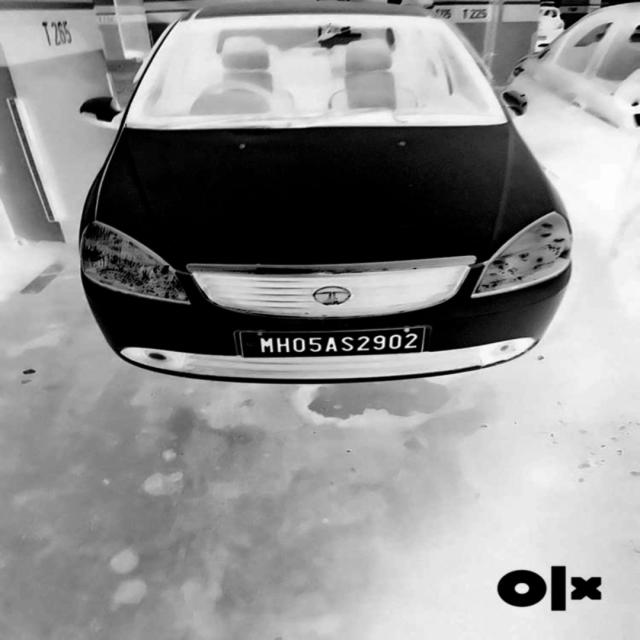0: (293, 335, 307, 356), (387, 334, 403, 351)
2: (404, 332, 419, 350), (357, 336, 371, 354)
5: (308, 336, 323, 356)
9: (372, 334, 387, 353)
A: (325, 334, 338, 354)
H: (276, 334, 291, 357)
IND: (242, 333, 259, 356)
Indian_registered: (238, 326, 428, 358)
M: (260, 335, 275, 354)
S: (339, 336, 355, 356)
